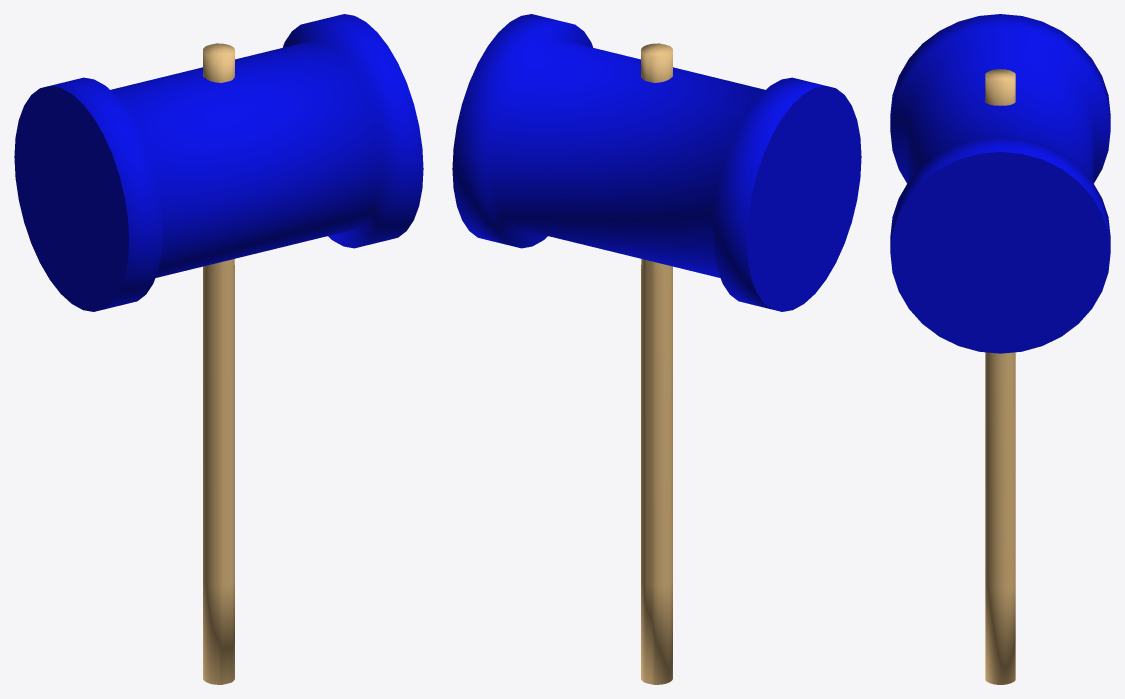
The model's file is Gamejam_Player_Hummer_Bule.fbx.
3 views of the same model, side by side, from view 1: azimuth 30°, elevation 25°; view 2: azimuth 150°, elevation 25°; view 3: azimuth 270°, elevation 25° (orthographic). The views are drawn at different scales.
Parts seen in each view (by area): view 1: 円柱, hummer_e; view 2: 円柱, hummer_e; view 3: 円柱, hummer_e.
Boxes of the visible parts, bbox=[...] form: 円柱: bbox=[14, 14, 423, 311]; hummer_e: bbox=[203, 43, 234, 684]; 円柱: bbox=[452, 14, 861, 311]; hummer_e: bbox=[641, 43, 672, 684]; 円柱: bbox=[890, 14, 1110, 353]; hummer_e: bbox=[985, 69, 1015, 684].
Size of the model in its own units: 200 by 407 by 135.
